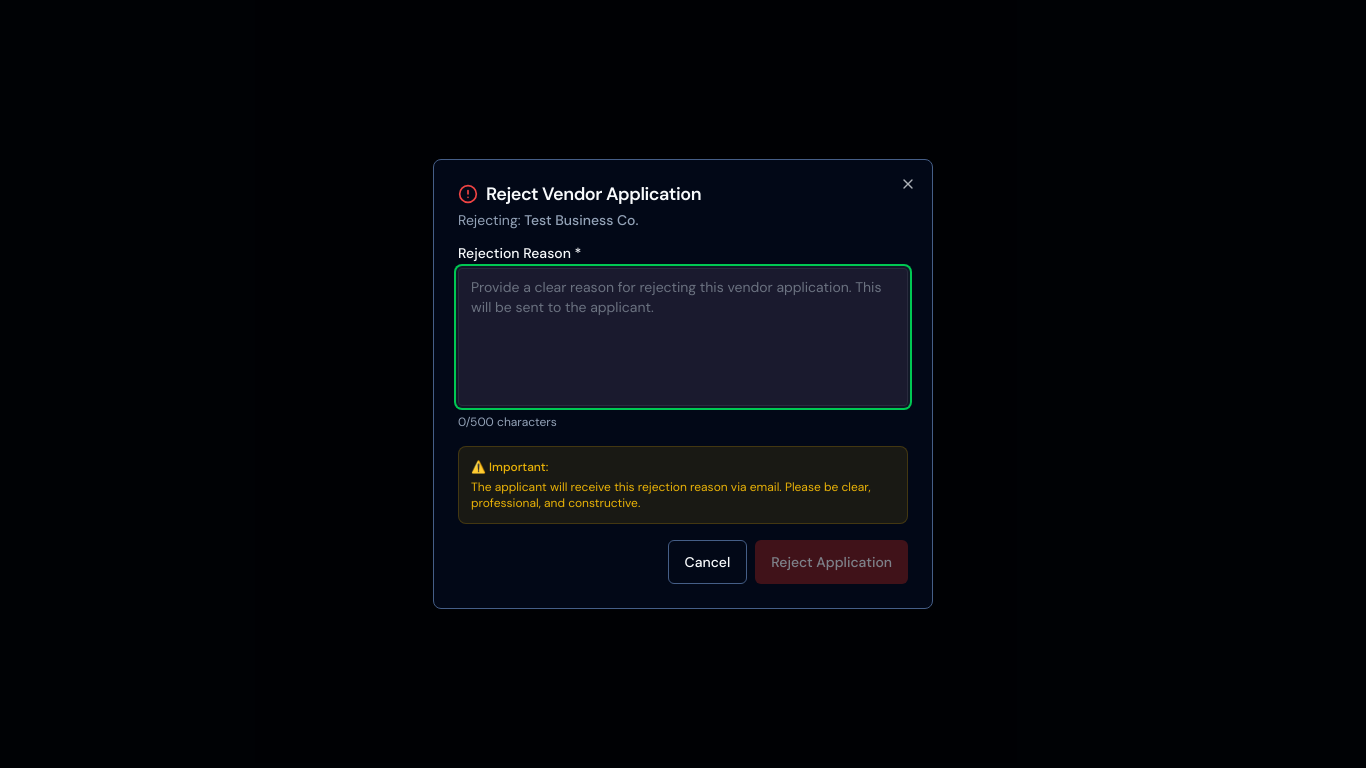
RejectVendorModal › shows loading state during submission
Replace the text in the text box with placeholder "Provide a clear reason" with "This is a valid rejection reason." at (683, 337), box [458, 268, 908, 406]
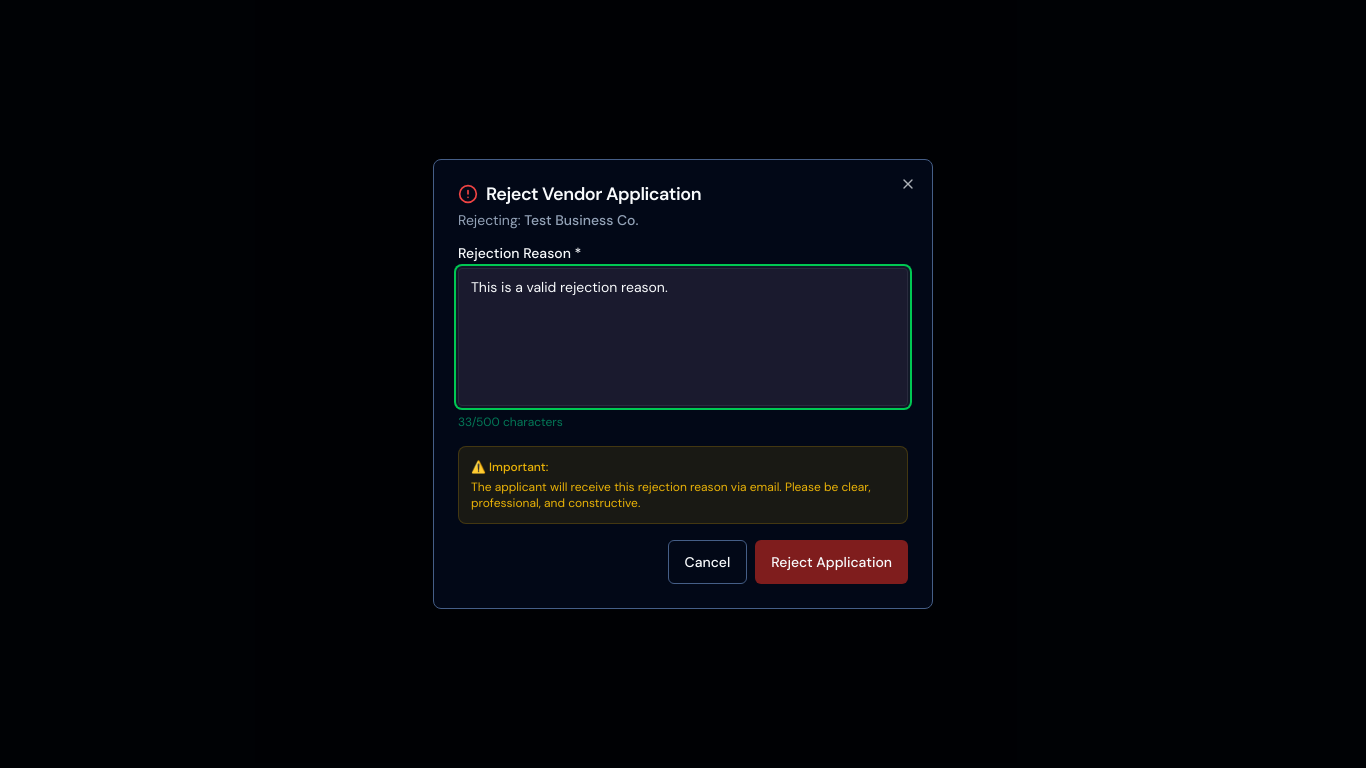
Click the button "Reject Application" at (832, 562), box [755, 540, 908, 584]
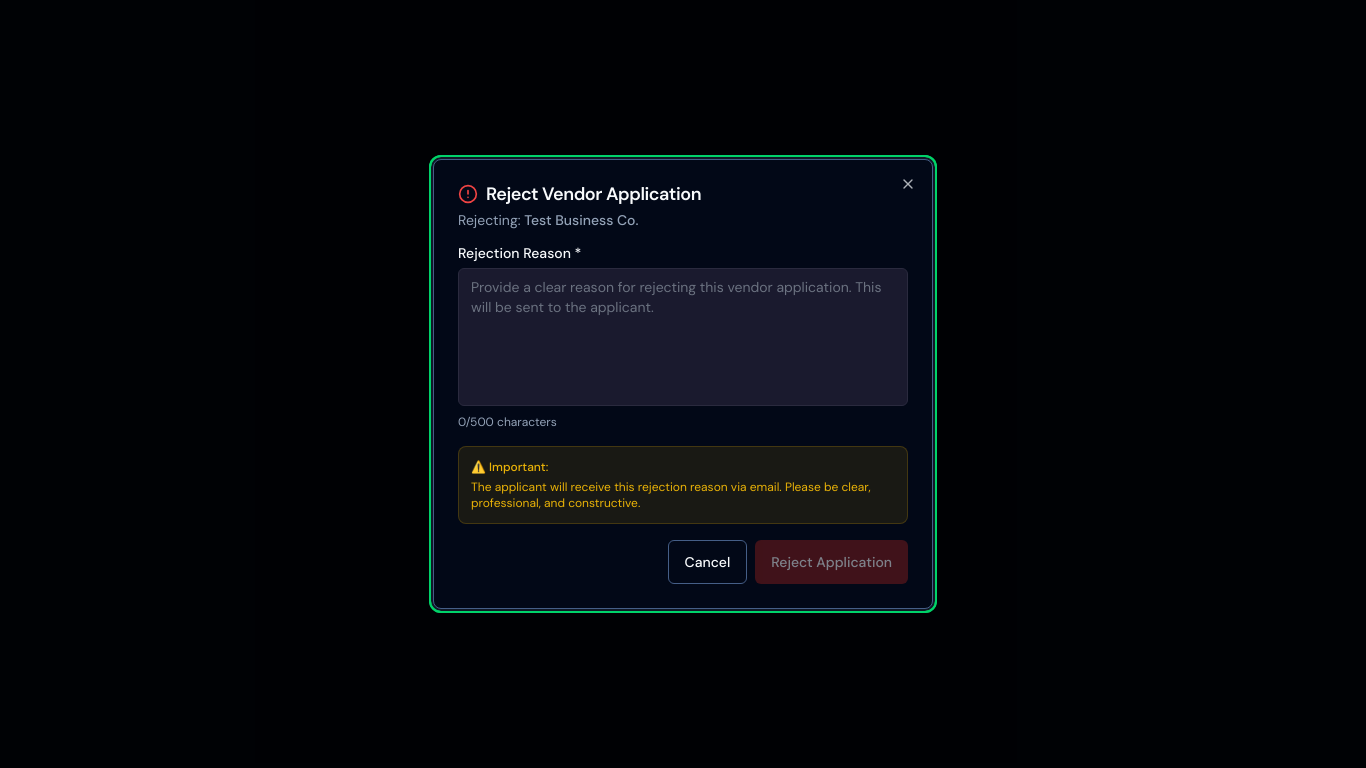
Check: the button "Rejecting..." is disabled, box [755, 540, 908, 584]
